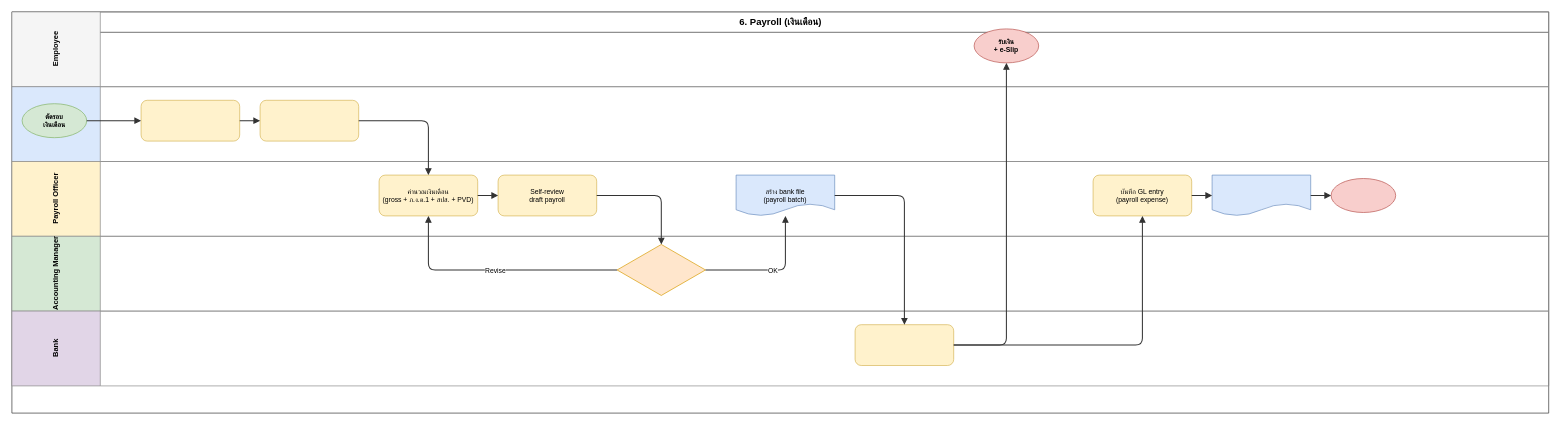
This 1561x425 diagram has some shape labels left out. The shapes that lost their labels are listed below. From the top down, each one's centre as x and y in pixels, then its label:
[190,120]: รวบรวม time/OT / leave / commission
[309,120]: ส่งข้อมูล ให้ Payroll
[1261,195]: เตรียม ภ.ง.ด.1 + สปส. → Tax Filing flow
[1363,195]: End
[661,269]: Manager approve?
[904,345]: โอนเงินเข้า บัญชีพนักงาน
